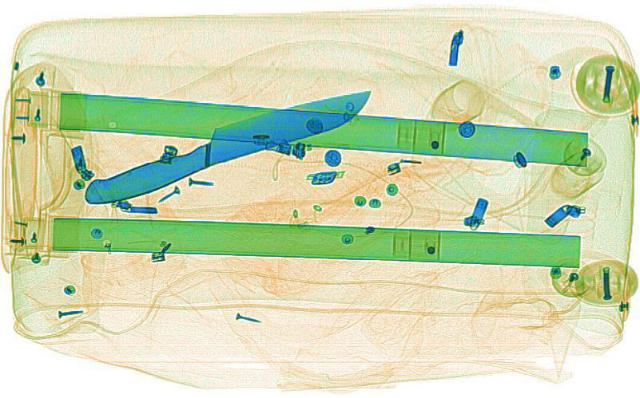Knife: (65, 76, 389, 210)
